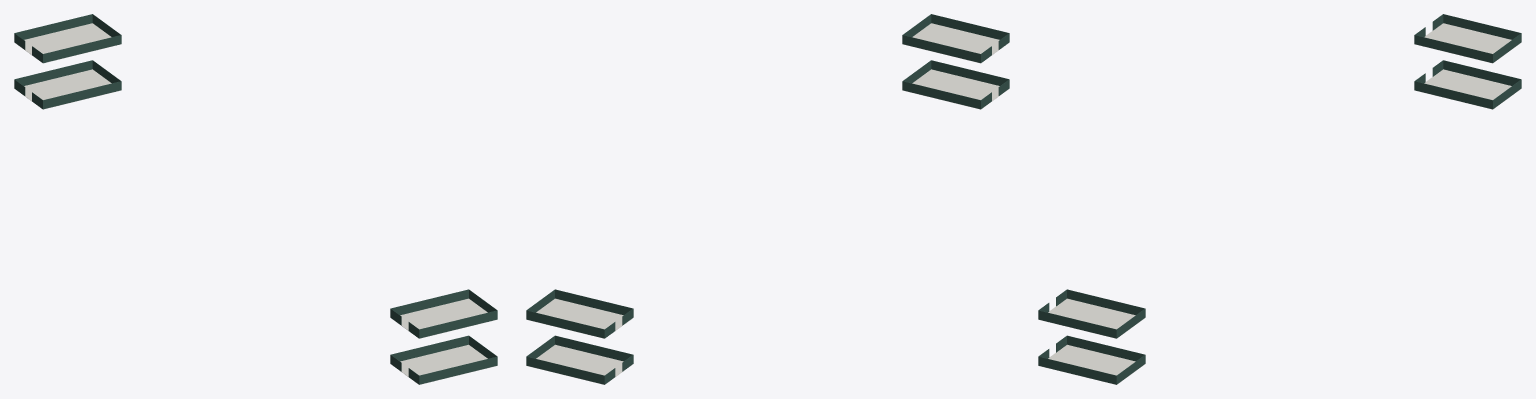
The model's file is SM_Malikane_Banyo_Fayans.fbx.
3 renders of one model, left to right at view 1: azimuth 30°, elevation 25°; view 2: azimuth 150°, elevation 25°; view 3: azimuth 330°, elevation 25°, orthographic.
Parts seen in each view (by area): view 1: Malikane_Banyo_Fayans; view 2: Malikane_Banyo_Fayans; view 3: Malikane_Banyo_Fayans.
Boxes of the visible parts, x1,y1,x2,y2 form: Malikane_Banyo_Fayans: (14,14,497,384); Malikane_Banyo_Fayans: (526,14,1009,384); Malikane_Banyo_Fayans: (1038,14,1521,384).
Bounding box in the file's own units: 890 × 600 × 7950.
